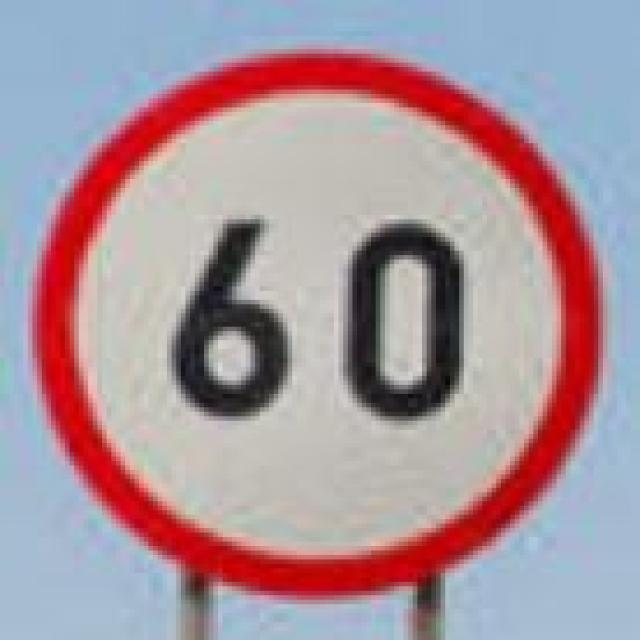Ograniczenie predkosci do 60: (28, 49, 598, 600)
